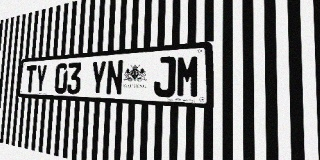0: (54, 63, 68, 94)
3: (67, 62, 82, 94)
J: (153, 56, 176, 97)
M: (176, 54, 200, 98)
N: (106, 59, 124, 96)
T: (25, 65, 37, 93)
Y: (90, 61, 107, 95), (35, 64, 47, 93)
